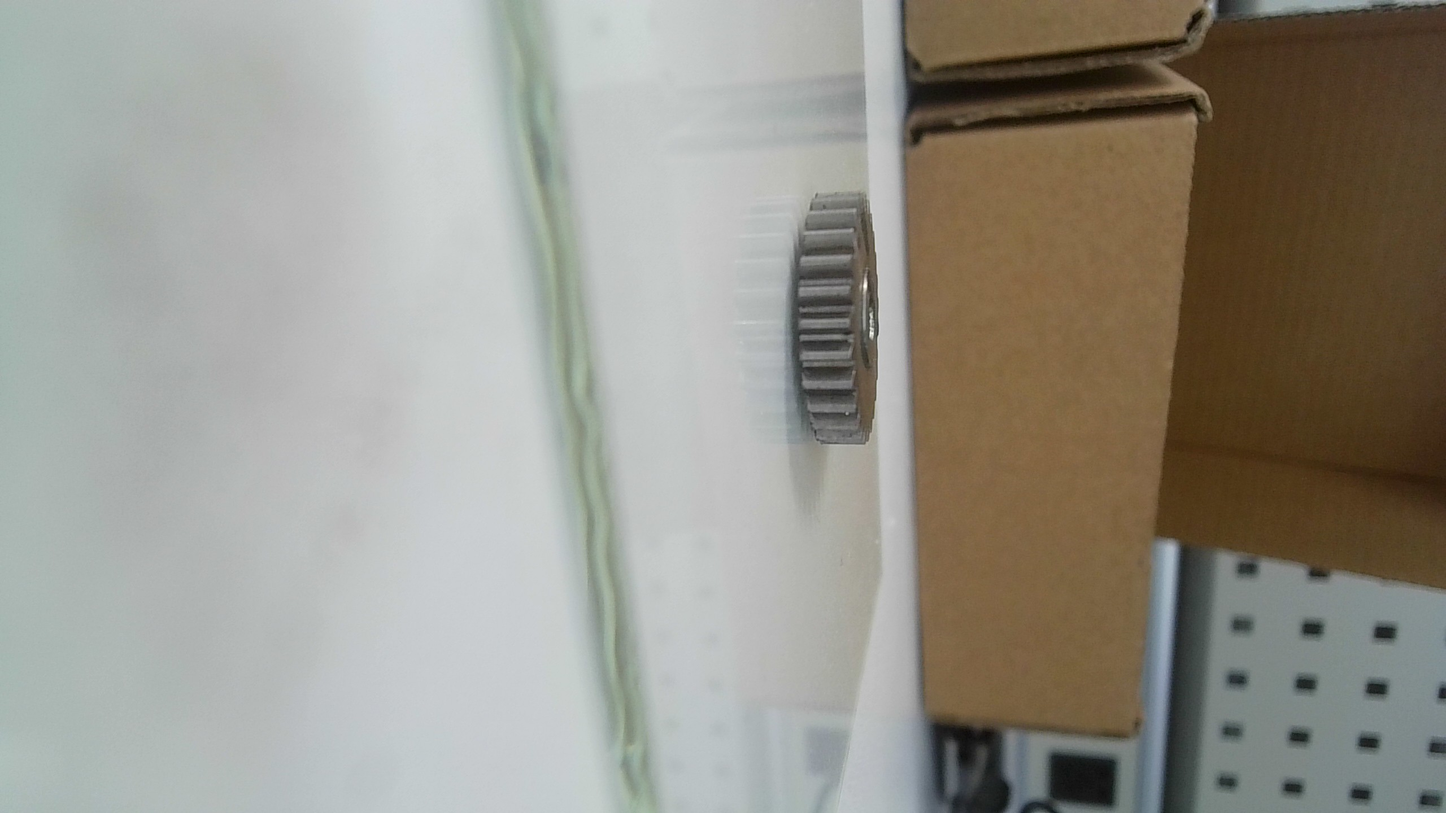gear: (791, 182, 886, 451)
